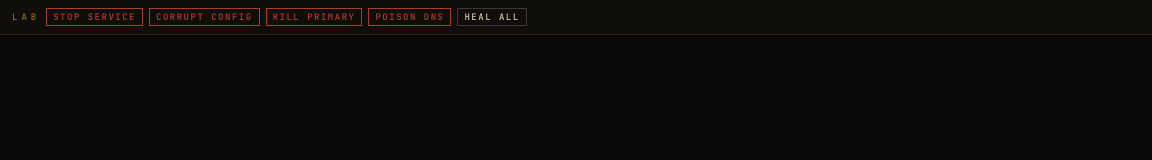
LabControls › offers Heal all and runs heal_all
Click the button with test id "fault-heal_all": {"x": 492, "y": 17} [458, 8, 527, 26]
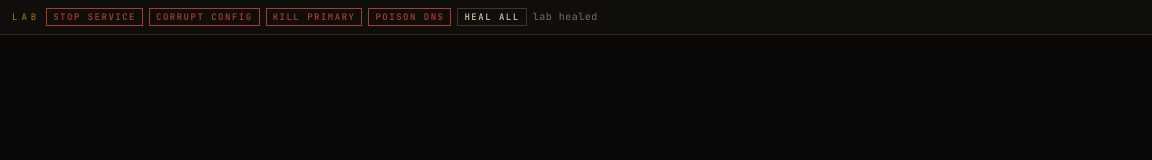
expect the text with test id "lab-msg" reads "lab healed": met, box [533, 10, 598, 23]
